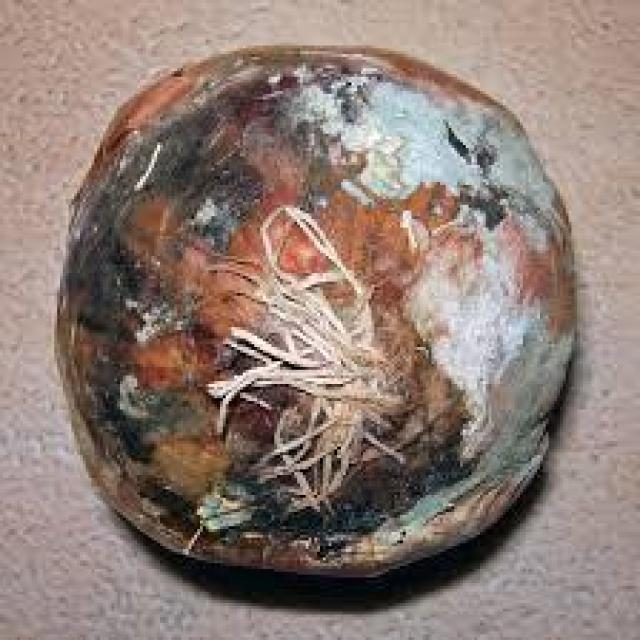Onion: (54, 42, 589, 588)
